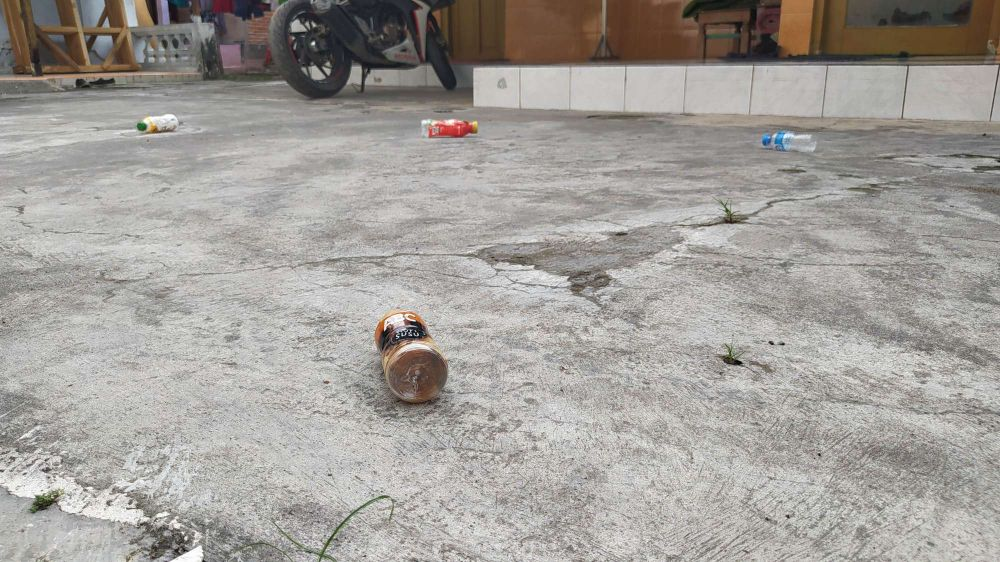botol: (358, 297, 459, 410), (406, 107, 494, 139), (756, 122, 827, 158), (136, 100, 191, 141)
